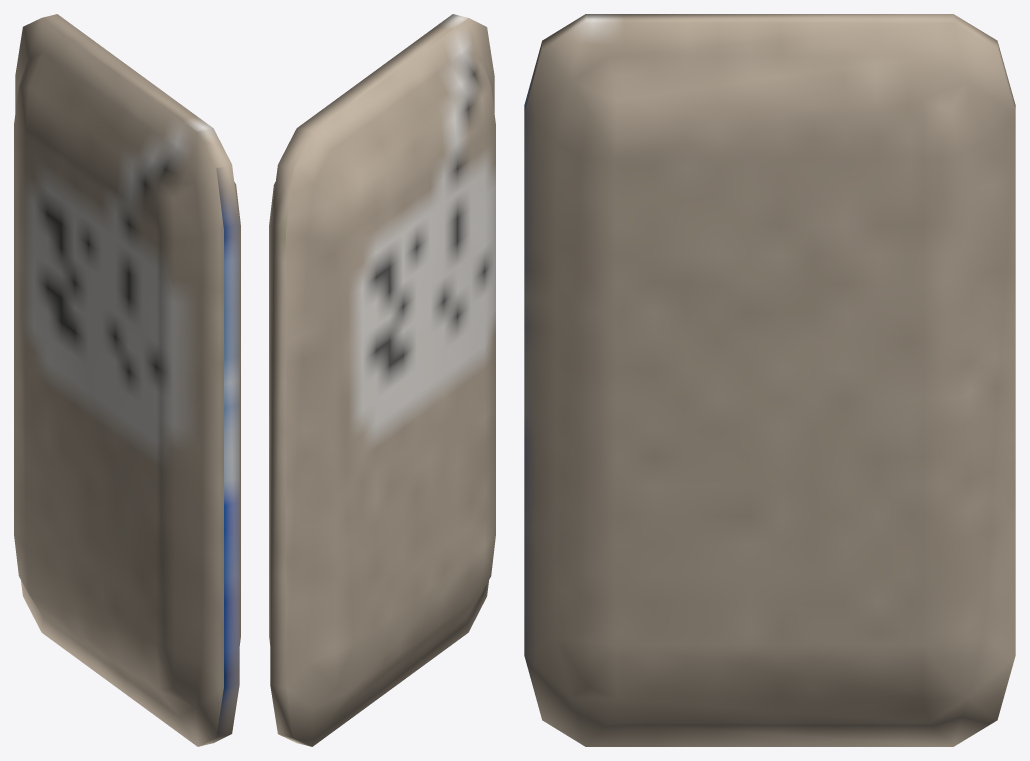
File: teabag.obj
3 renders of one model, left to right at view 1: azimuth 30°, elevation 25°; view 2: azimuth 150°, elevation 25°; view 3: azimuth 270°, elevation 25°, orthographic. The views are drawn at different scales.
Parts seen in each view (by area): view 1: teabag; view 2: teabag; view 3: teabag.
Boxes of the visible parts, bbox=[...] form: teabag: bbox=[14, 14, 240, 746]; teabag: bbox=[269, 14, 495, 746]; teabag: bbox=[524, 14, 1015, 746].
Size of the model in its own units: 0.00975 by 0.0779 by 0.0479.
